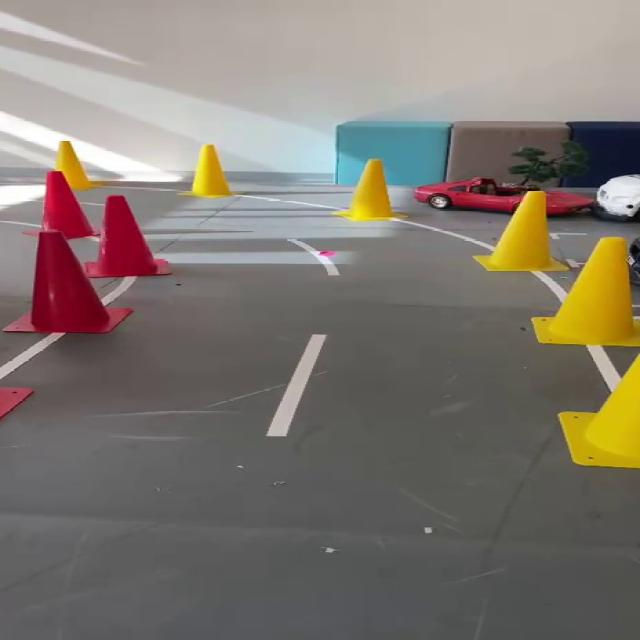Cone-red: (4, 230, 128, 332), (86, 195, 168, 278), (43, 170, 94, 239), (0, 388, 32, 419)
Cones-yellow: (532, 238, 639, 346), (559, 355, 639, 468), (474, 191, 568, 271), (335, 158, 399, 221), (55, 140, 101, 189), (192, 145, 230, 196)
